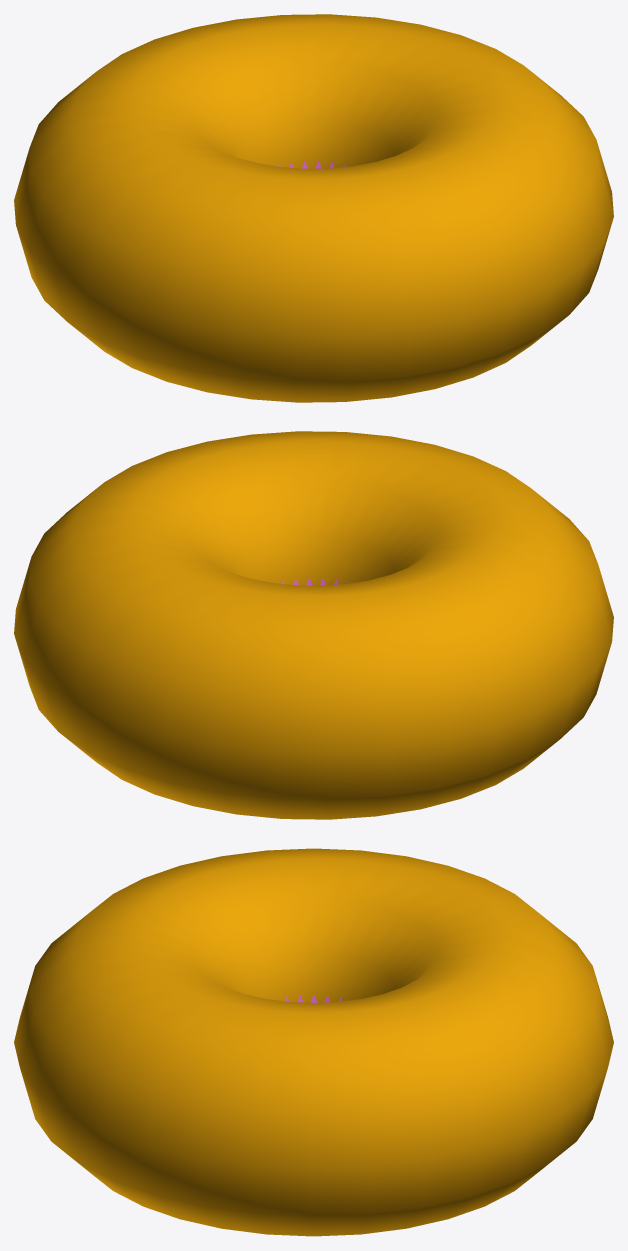
File: donutEnemyPink3.glb
The picture shows the model from 3 angles, top to bottom: view 1: azimuth 30°, elevation 25°; view 2: azimuth 150°, elevation 25°; view 3: azimuth 270°, elevation 25°; orthographic projection.
Visible parts, largest first — view 1: Donut; view 2: Donut; view 3: Donut.
Part boxes in pixels (x1=…): Donut: x1=14, y1=14, x2=613, y2=402; Donut: x1=14, y1=431, x2=613, y2=819; Donut: x1=14, y1=848, x2=613, y2=1236.
Size of the model in its own units: 1.28 by 0.5 by 1.28.
